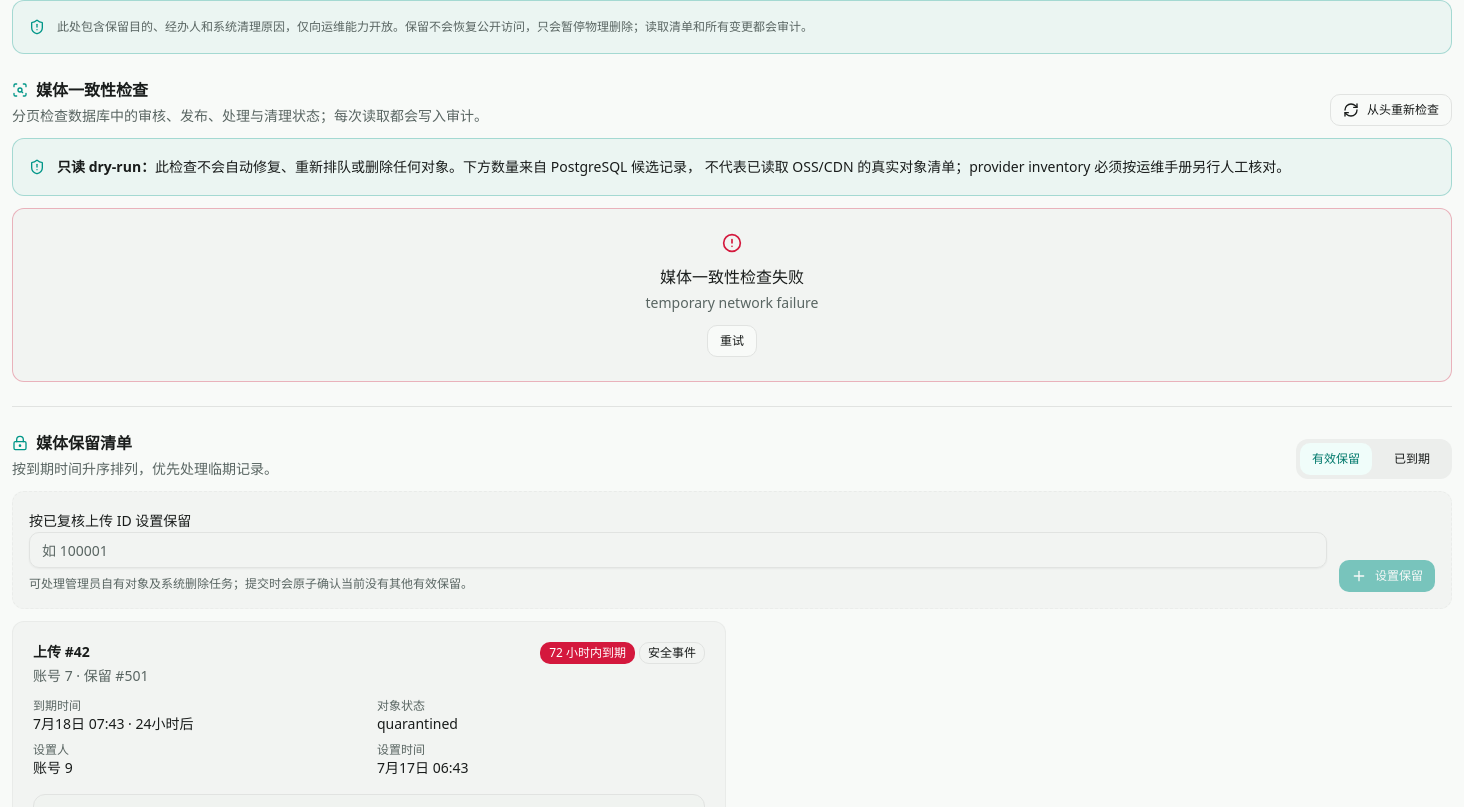
it: MediaOperations › recovers a failed reconciliation read without implying that it repaired state
The width and height of the screenshot is (1464, 807).
Expected: the text "媒体一致性检查失败" is shown, [660,266,804,288]
Click the button "重试": (732, 341) [707,325,757,357]
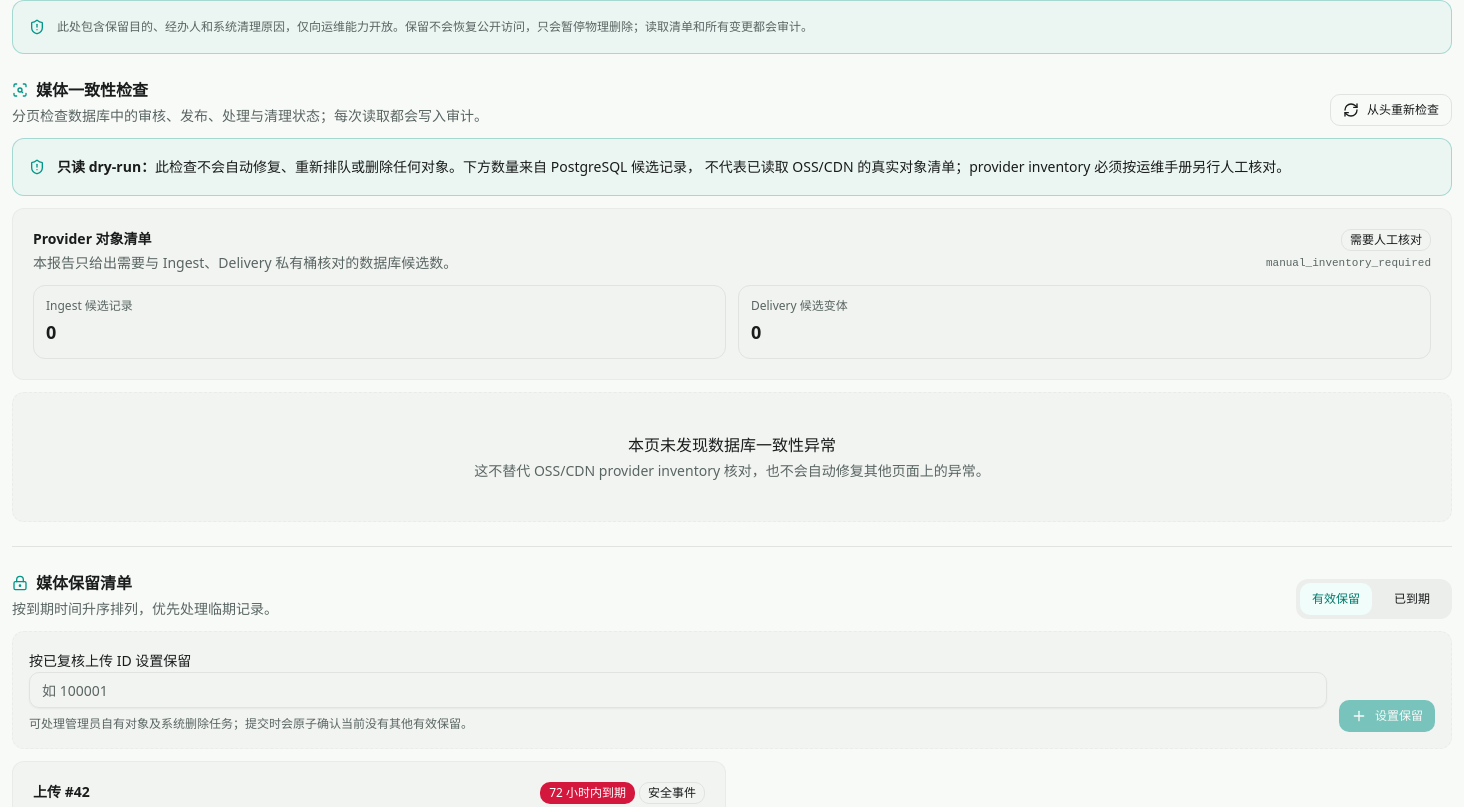
Expected: the text "不会自动修复、重新排队或删除任何对象" is shown, [155,157,1290,176]
Now the text "本页未发现数据库一致性异常" is shown, box [628,434,836,456]
